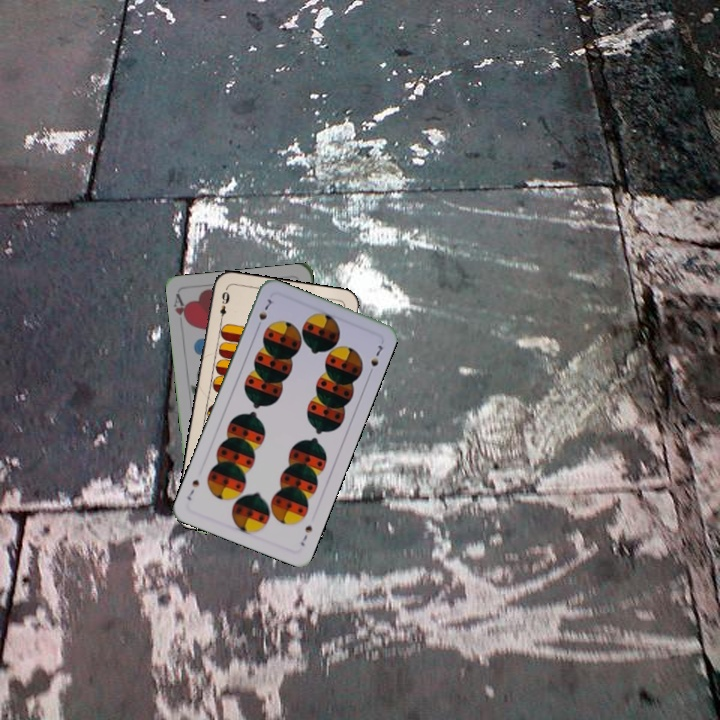E9: (216, 285, 232, 326)
HA: (170, 290, 192, 328)
S7: (252, 295, 274, 332), (296, 521, 315, 549)
